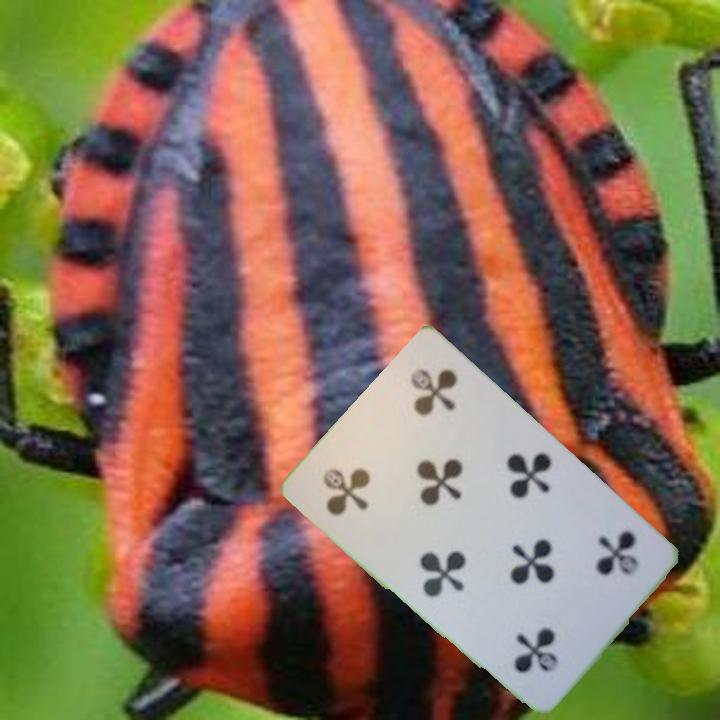c_8.png: (298, 414, 427, 544), (536, 504, 665, 633)
